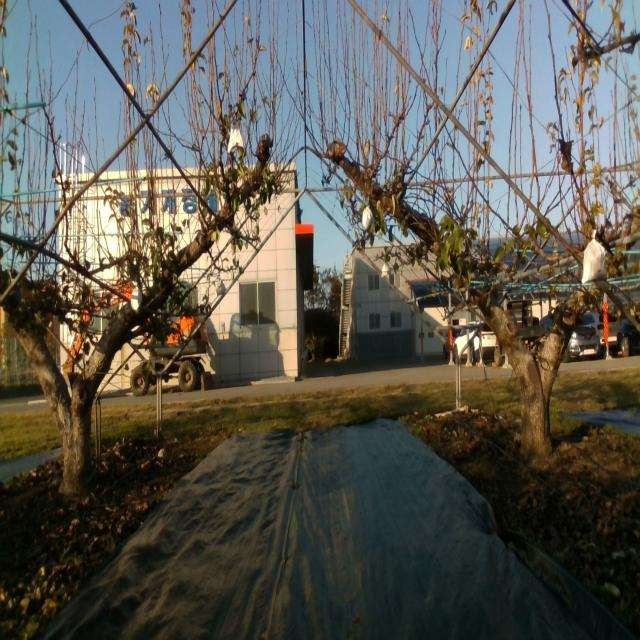pearbags: (581, 230, 607, 282), (227, 124, 245, 152), (131, 280, 142, 310), (362, 206, 372, 230), (216, 275, 227, 296)
